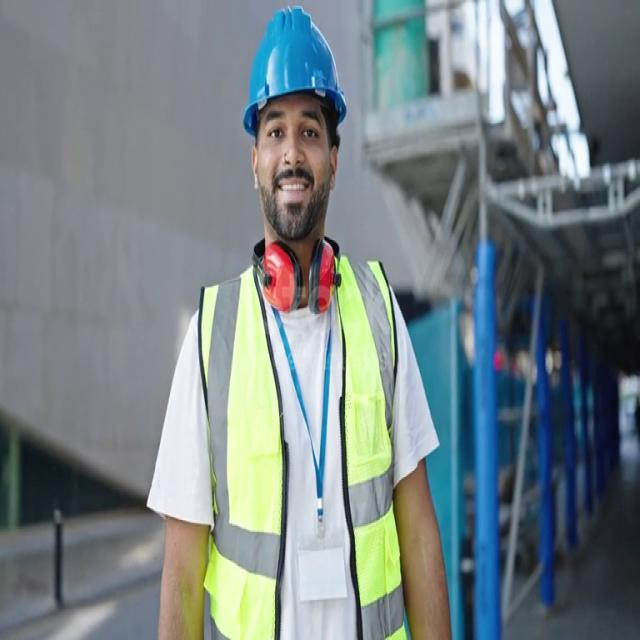capacete: (222, 5, 355, 150)
